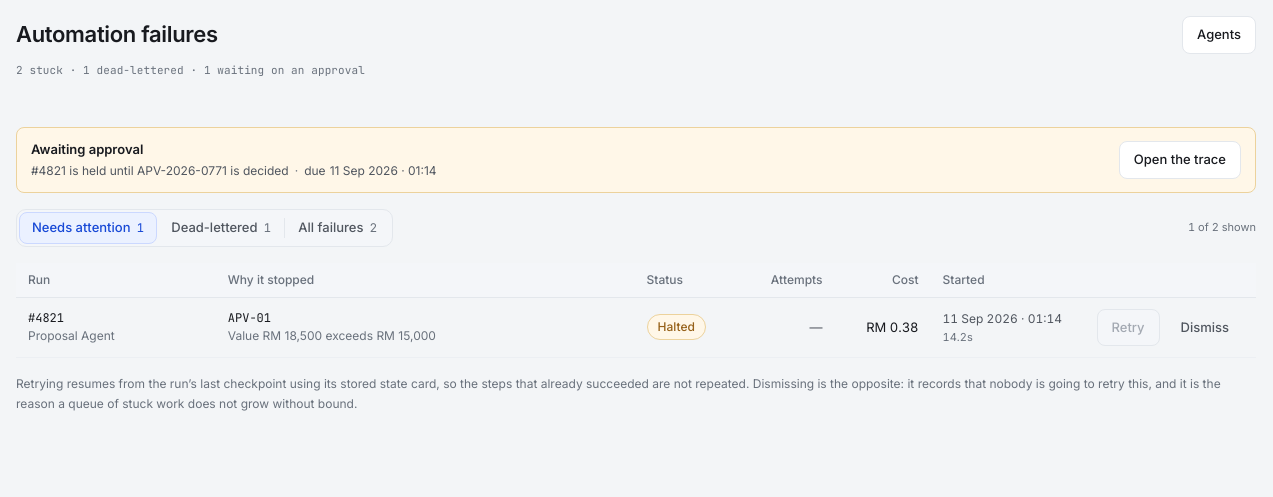
/automation/failures · M18-S07 › lists the failed run with its error code and message
Click the tab "All failures 2".
click(338, 228)  # box x1=285 y1=212 x2=390 y2=244
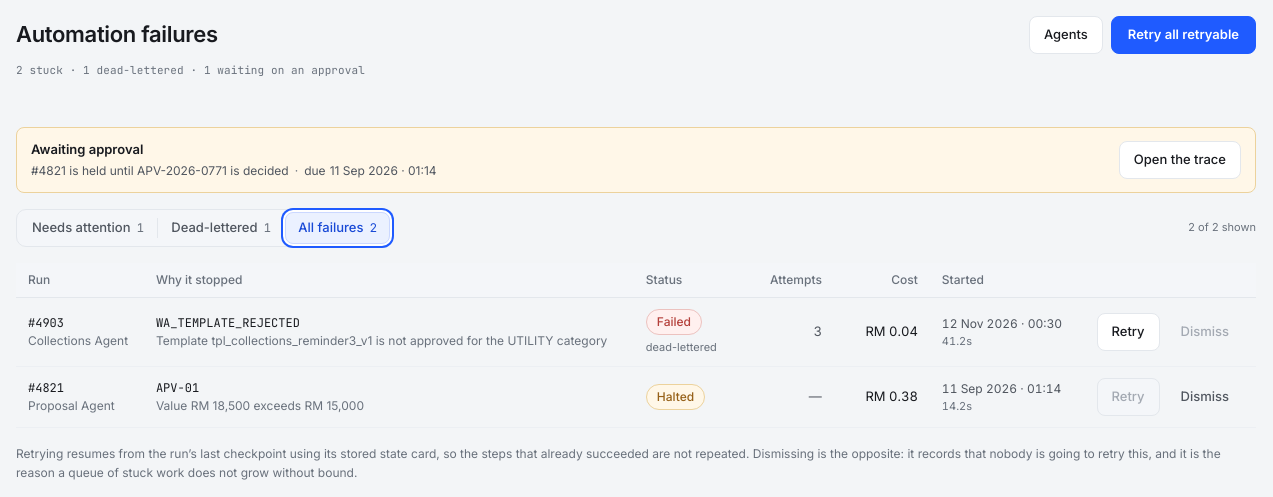
Result: the text "#4903" is shown at x1=28 y1=315 x2=64 y2=331
Result: the text "WA_TEMPLATE_REJECTED" is shown at x1=156 y1=315 x2=300 y2=331
Result: the text "is not approved for the UTILITY category" is shown at x1=156 y1=333 x2=607 y2=348
